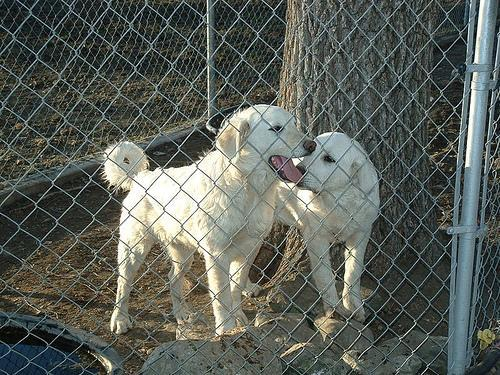Great_Pyrenees: (102, 105, 318, 337), (275, 131, 382, 321)
